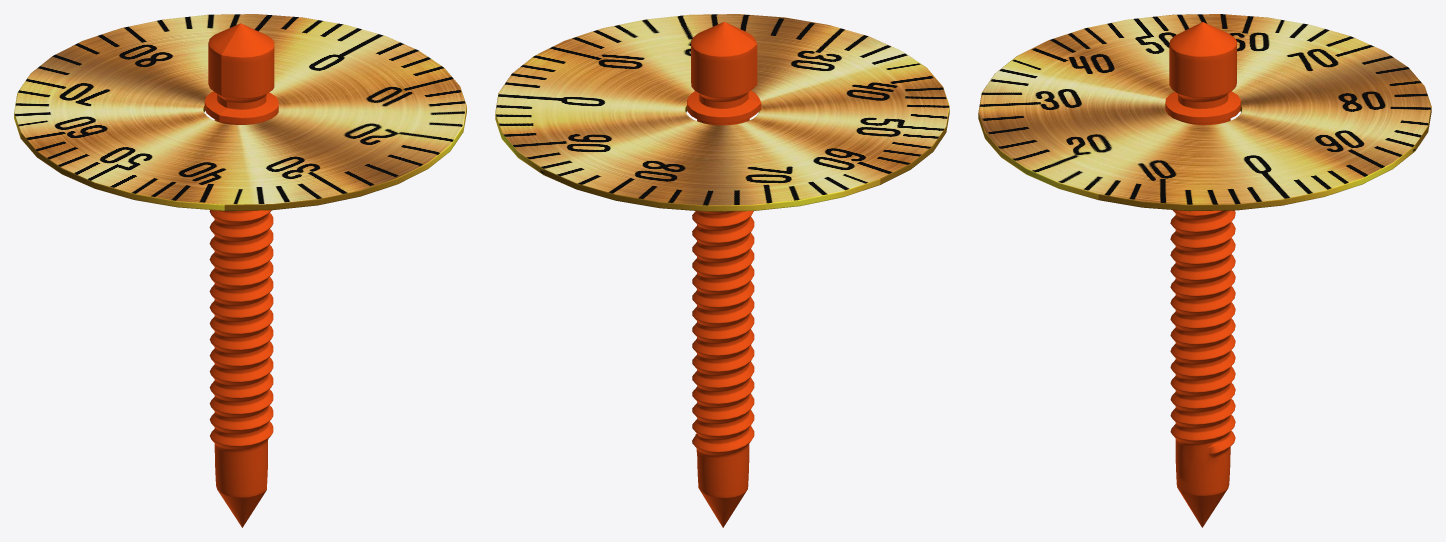
The picture shows the model from 3 angles, left to right: view 1: azimuth 30°, elevation 25°; view 2: azimuth 150°, elevation 25°; view 3: azimuth 270°, elevation 25°; orthographic projection.
Visible parts, largest first — view 1: Cylinder012_Mesh.006, Helix002_Mesh.008; view 2: Cylinder012_Mesh.006, Helix002_Mesh.008; view 3: Cylinder012_Mesh.006, Helix002_Mesh.008.
Boxes of the visible parts, bbox=[...] form: Cylinder012_Mesh.006: bbox=[14, 14, 466, 210]; Helix002_Mesh.008: bbox=[204, 23, 278, 527]; Cylinder012_Mesh.006: bbox=[495, 14, 949, 211]; Helix002_Mesh.008: bbox=[687, 21, 761, 527]; Cylinder012_Mesh.006: bbox=[978, 14, 1431, 211]; Helix002_Mesh.008: bbox=[1165, 22, 1240, 527].
Bounding box in the file's own units: 0.62 × 0.764 × 0.6211.
Materials: 2 (1 with a texture image).
